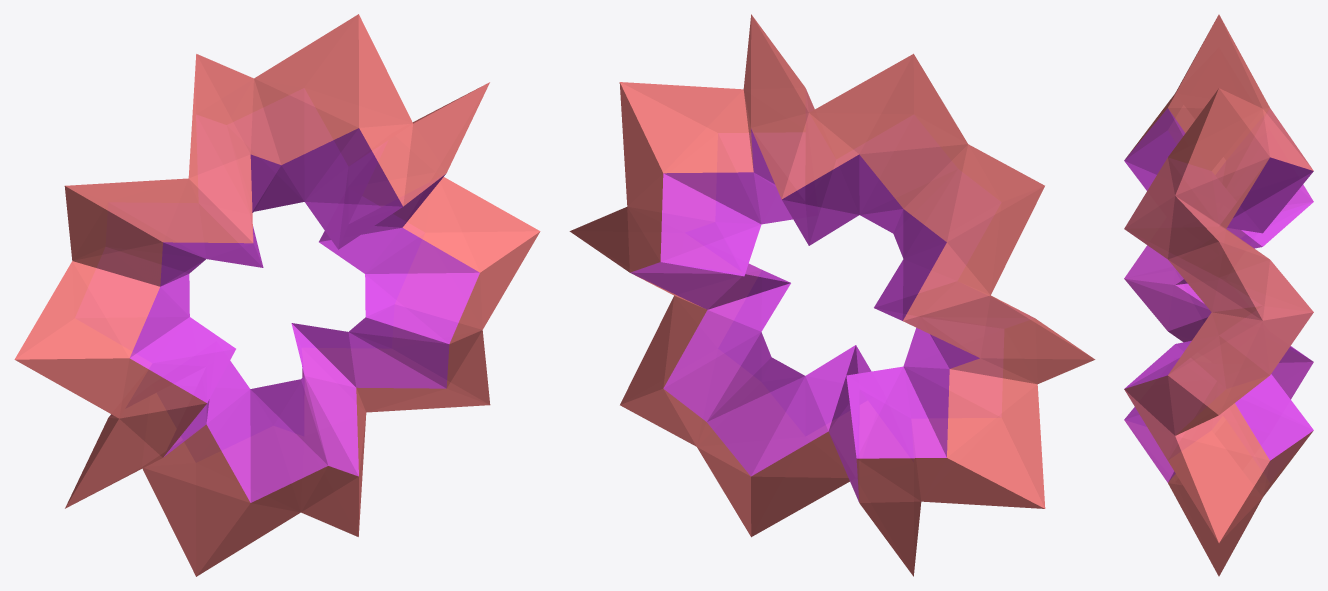
Rendered from Regular10TetragonalStarToroidSin.obj.
3 renders of one model, left to right at view 1: azimuth 30°, elevation 25°; view 2: azimuth 150°, elevation 25°; view 3: azimuth 270°, elevation 25°, orthographic. The views are drawn at different scales.
Size of the model in its own units: 3.88 by 3.69 by 1.3.
